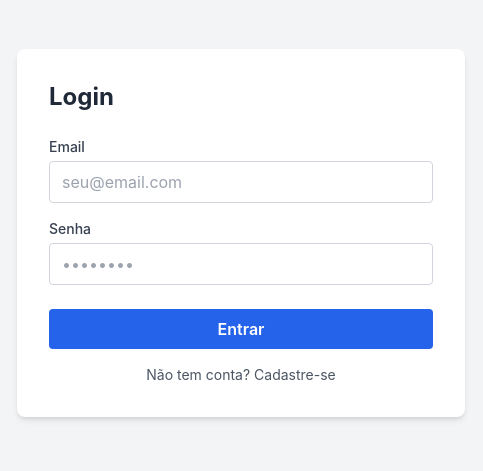
Login component › shows error when submitting with empty fields
Click the button "Entrar": (241, 329) [49,309,433,349]
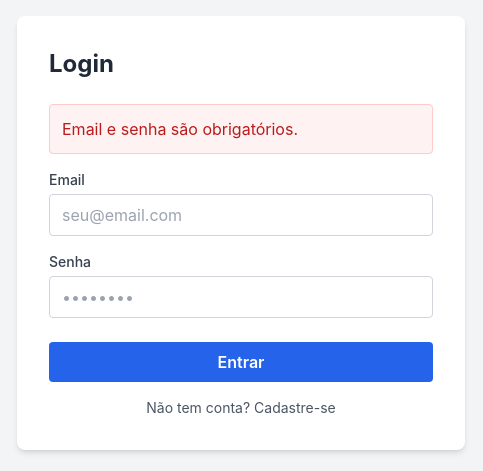
expect the text "Email e senha são obrigatórios." is shown: met, box [49,104,433,154]
